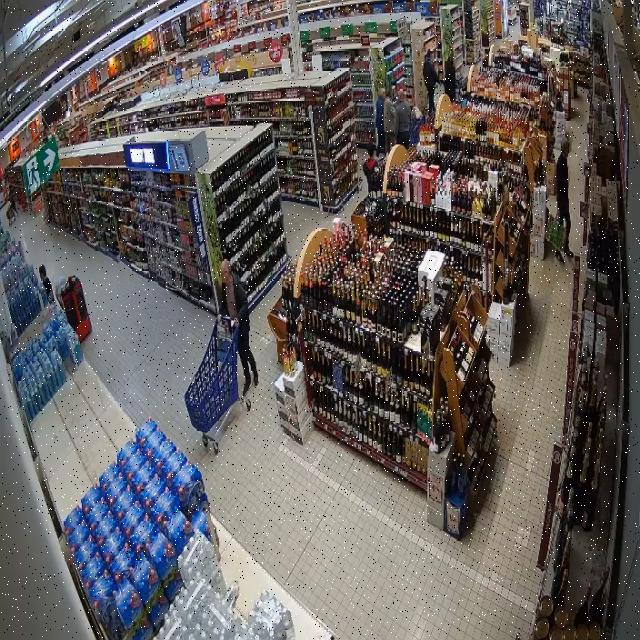hands: (231, 319, 240, 326), (555, 209, 560, 221), (216, 314, 221, 322)
person: (218, 259, 258, 394), (555, 139, 573, 259)
